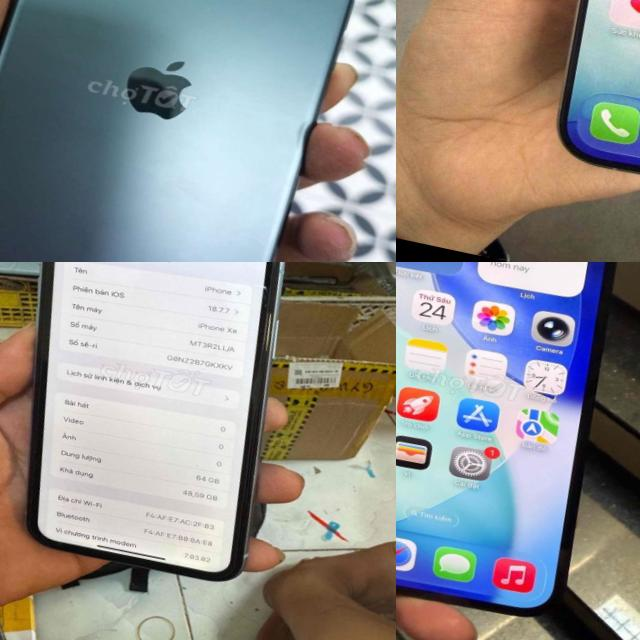gen_11: (0, 0, 395, 262)
gen_12_13: (396, 262, 640, 629)
gen_15: (507, 0, 640, 234)
gen_x_xs: (0, 262, 333, 594)
